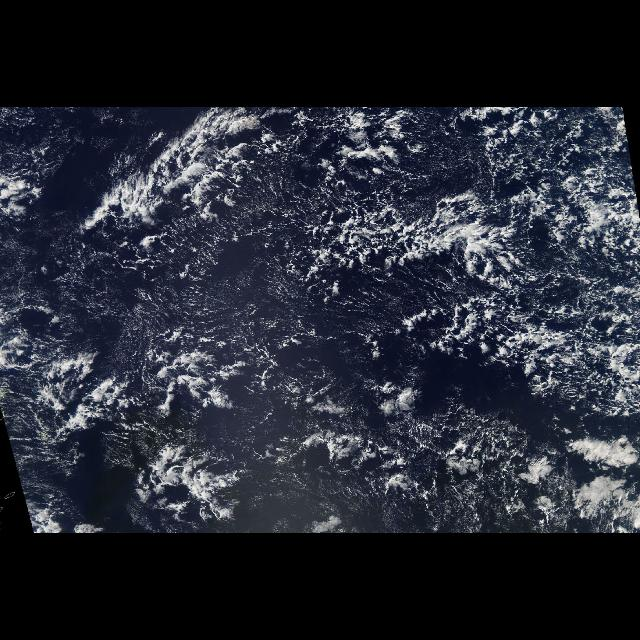Gravel: (25, 180, 565, 520)
Sugar: (121, 266, 341, 360)
